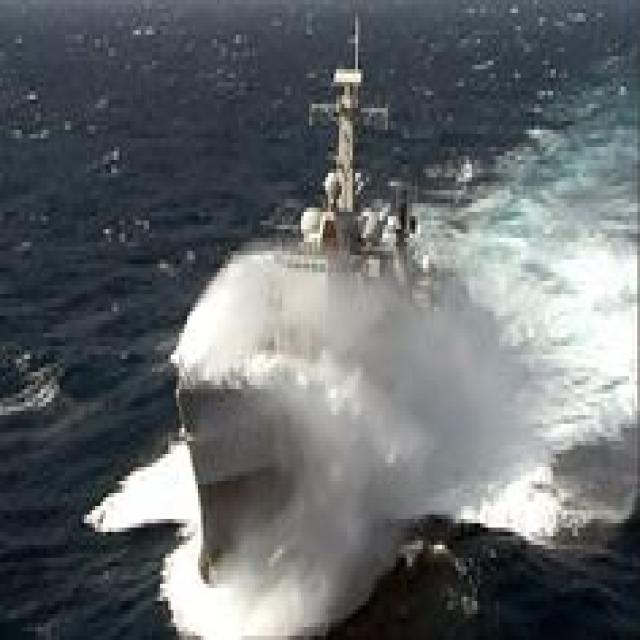navalvessels: (168, 30, 550, 572)
